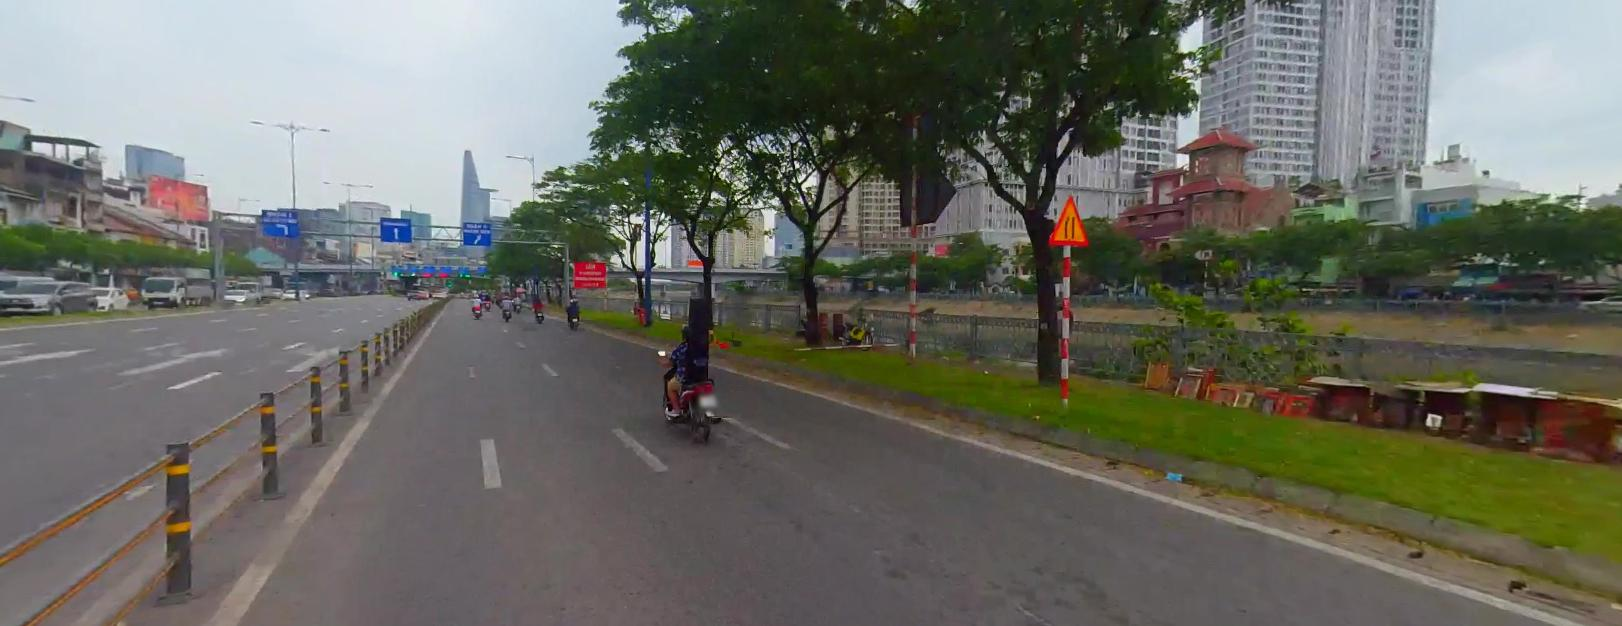Nguy hiem: (1046, 192, 1089, 245)
